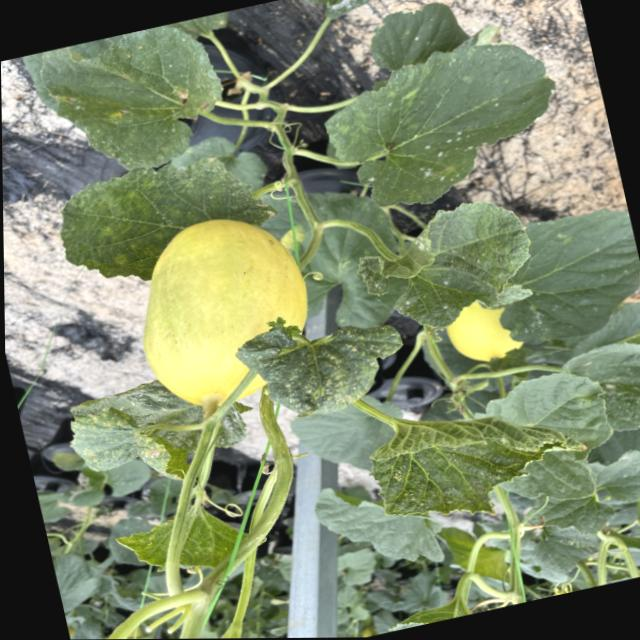SLCV: (347, 354, 623, 549), (8, 12, 254, 195), (46, 131, 278, 306), (315, 187, 548, 352), (45, 351, 278, 515), (220, 286, 419, 433)
downy mildew: (517, 445, 640, 551)
healthy: (473, 200, 640, 358)
powdery mildew: (287, 30, 602, 221)
